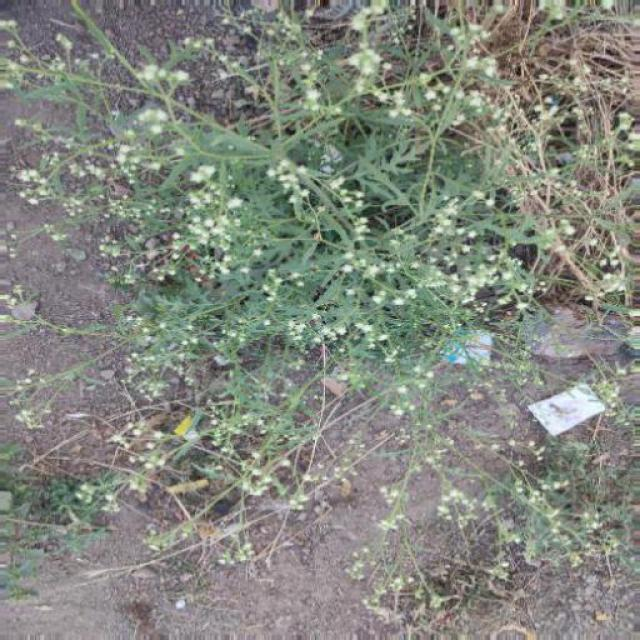weed: (45, 1, 629, 516)
